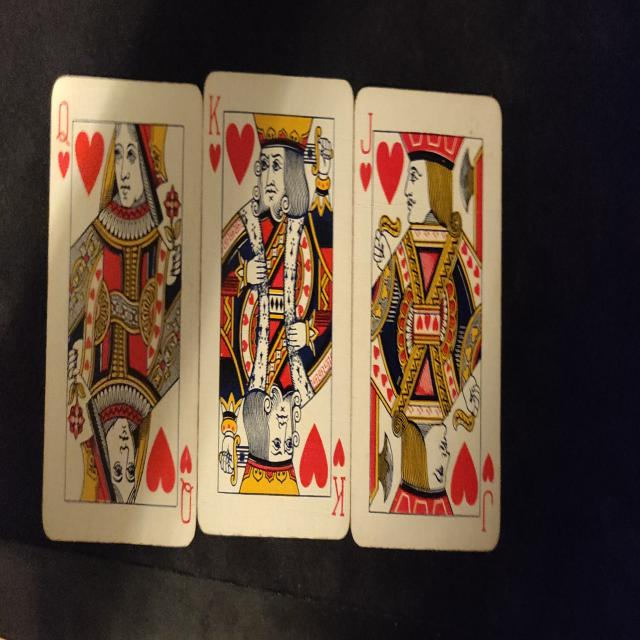Heart: (146, 425, 175, 494), (75, 130, 104, 196), (376, 140, 405, 204), (300, 423, 328, 489), (226, 123, 255, 185), (451, 440, 478, 506), (482, 451, 495, 484), (209, 143, 221, 173), (333, 437, 345, 467), (360, 162, 372, 192), (58, 151, 70, 180), (180, 445, 192, 474)
Jack: (360, 112, 373, 155), (482, 491, 493, 532)
King: (331, 476, 346, 516), (209, 95, 221, 136)
Queen: (180, 477, 194, 524), (57, 100, 70, 147)
